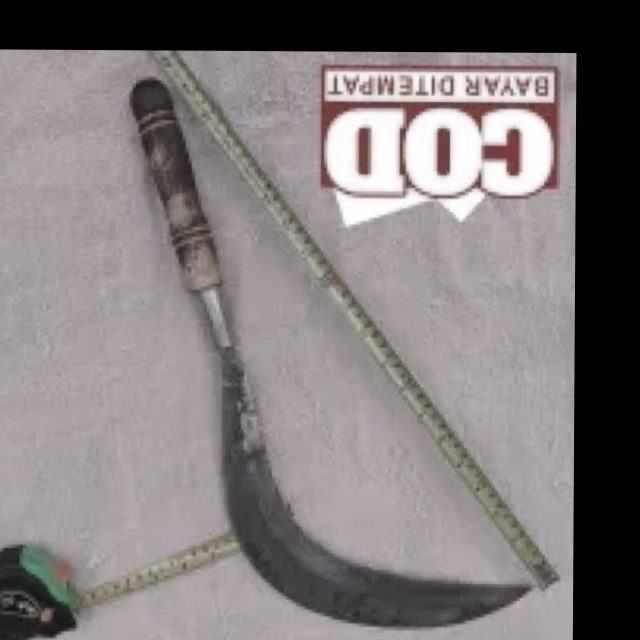Sharp-Object: (131, 78, 533, 633)
